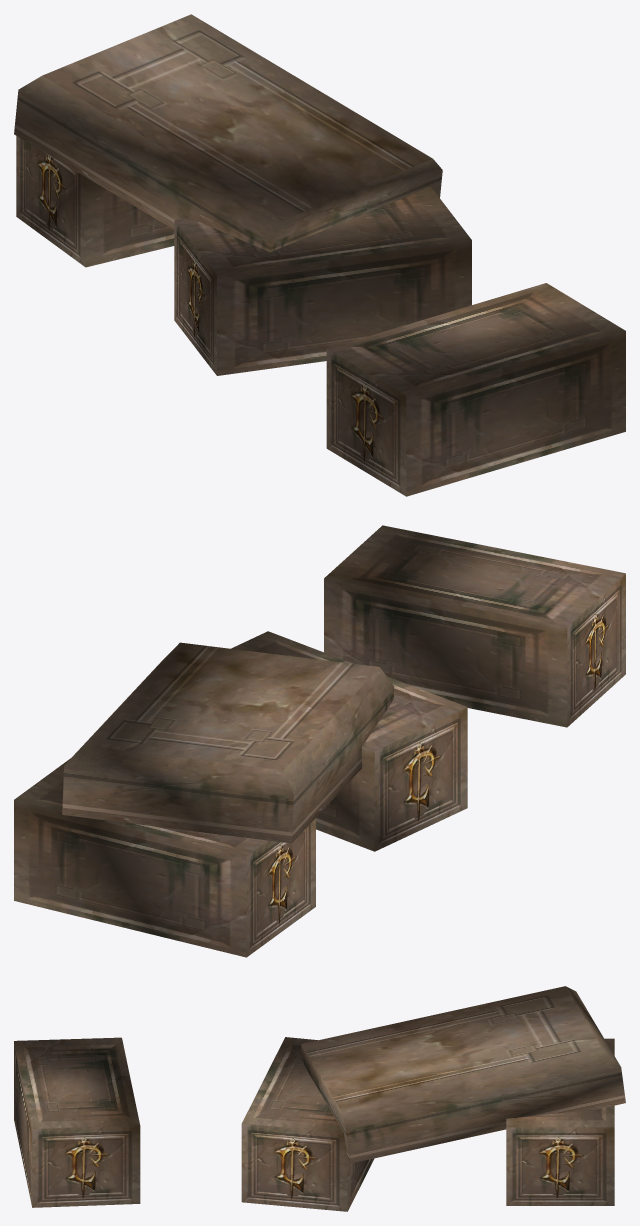
The model's file is lordaeron_bench_02.obj.
The picture shows the model from 3 angles, top to bottom: view 1: azimuth 30°, elevation 25°; view 2: azimuth 150°, elevation 25°; view 3: azimuth 270°, elevation 25°; orthographic projection. The views are drawn at different scales.
Parts seen in each view (by area): view 1: LORDAERON_BENCH_020; view 2: LORDAERON_BENCH_020; view 3: LORDAERON_BENCH_020.
Part boxes in pixels (bbox=[...]): LORDAERON_BENCH_020: bbox=[14, 14, 625, 496]; LORDAERON_BENCH_020: bbox=[14, 525, 625, 957]; LORDAERON_BENCH_020: bbox=[14, 986, 625, 1211].
Size of the model in its own units: 1.28 by 0.7391 by 3.11.
1 material, 1 textured.
